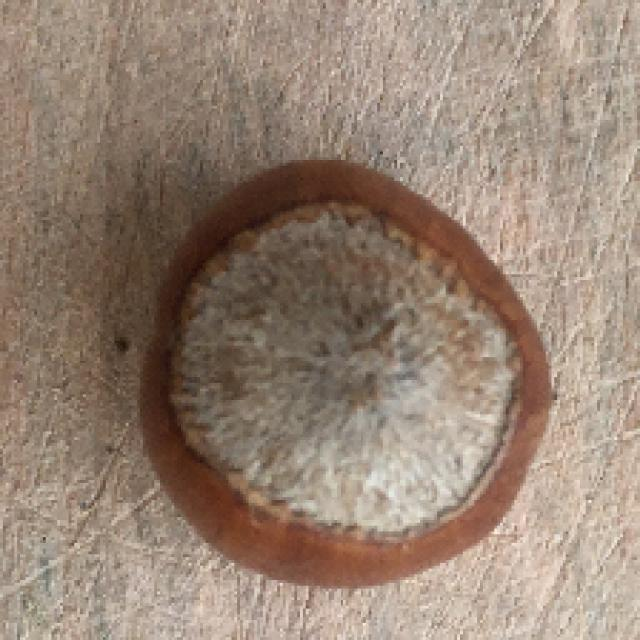DamagedHazelnut: (138, 156, 556, 593)
